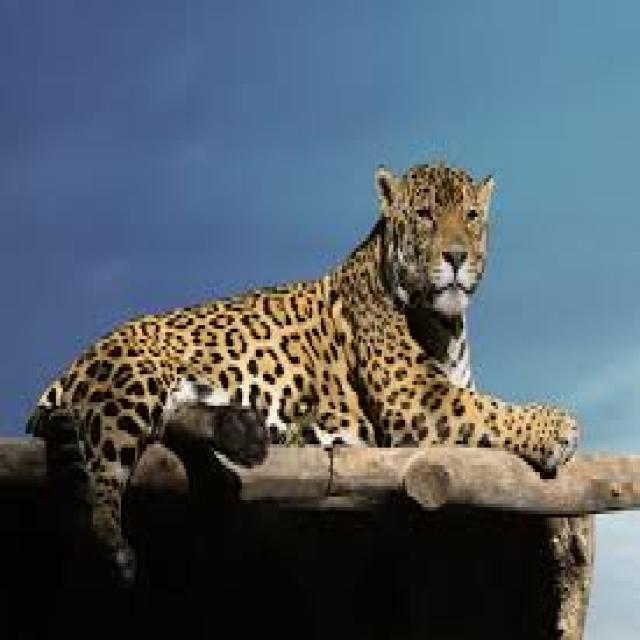Jaguar: (17, 154, 580, 563)
